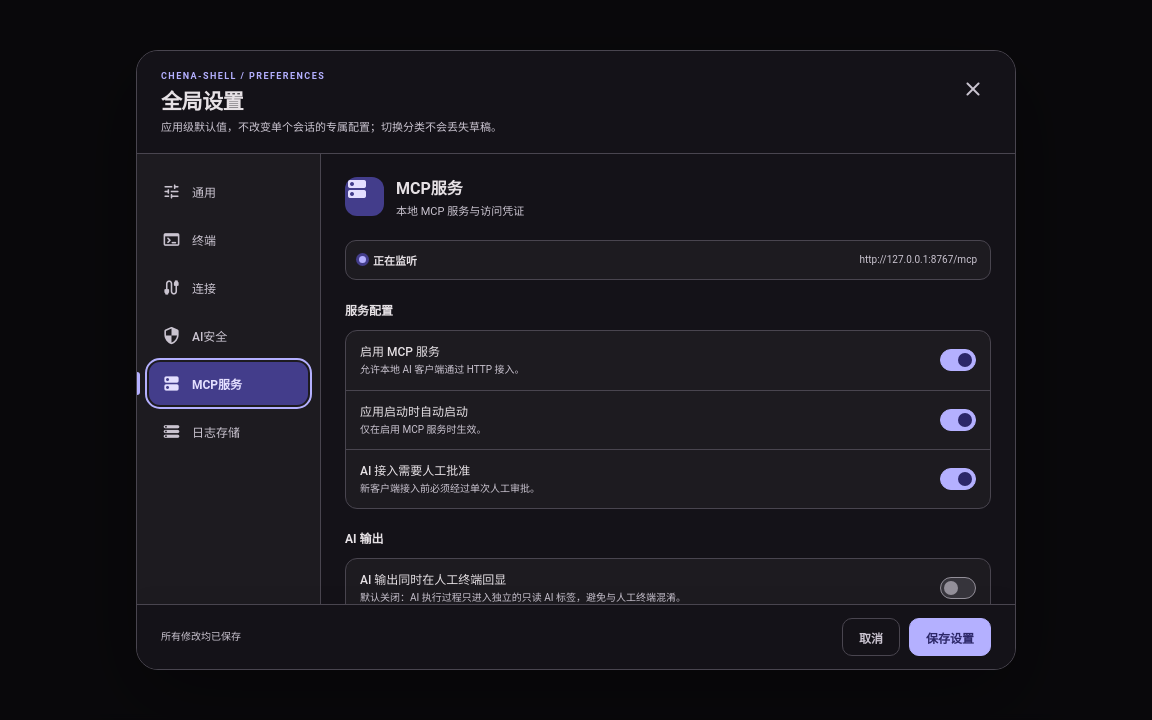
SettingsDialog 分类与完整草稿 › 采用 onSave 返回的设置、MCP 状态和通知并清除脏状态
Click the button "保存设置". click: [950, 637]
box: [909, 618, 991, 656]
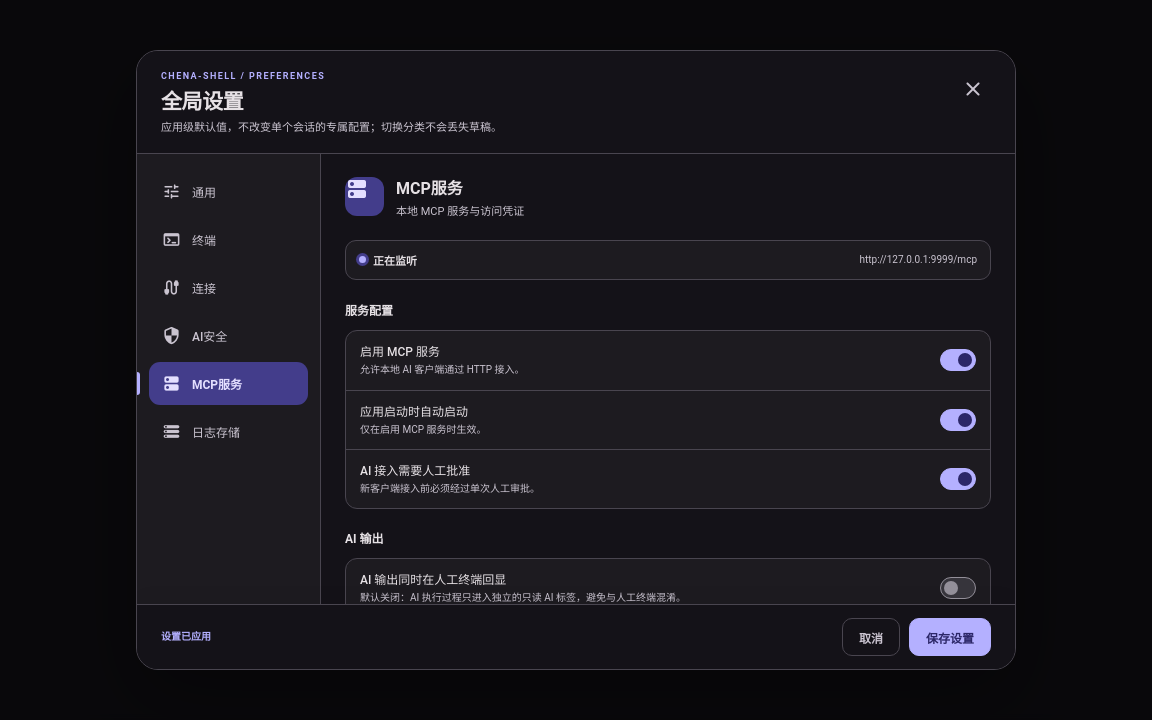
Expected: the text "设置已应用" is shown, [161, 631, 211, 642]
Expected: the text "http://127.0.0.1:9999/mcp" is shown, [860, 254, 977, 265]
